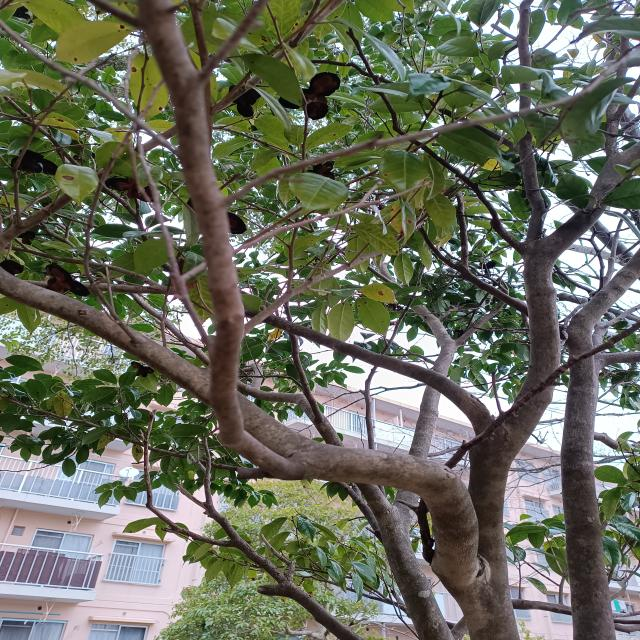Branch: (561, 245, 640, 640), (470, 234, 560, 574), (291, 441, 479, 600), (380, 343, 459, 640)
Twig: (136, 0, 299, 481), (0, 266, 313, 459), (142, 414, 366, 640), (348, 26, 522, 254), (245, 307, 494, 434), (546, 142, 640, 257), (516, 1, 548, 241), (377, 264, 452, 347), (455, 290, 509, 350)
